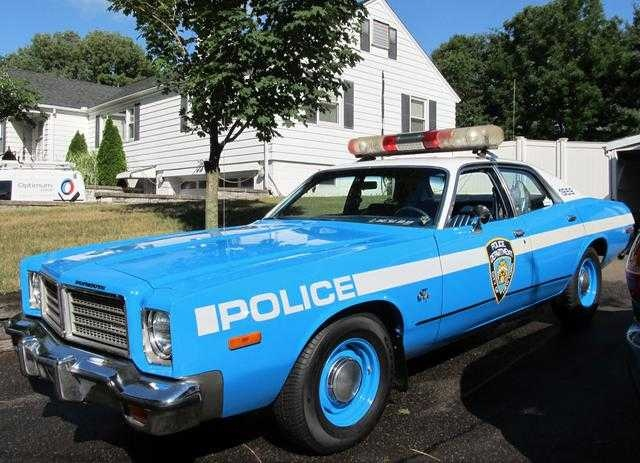Police Car: (21, 99, 619, 445)
